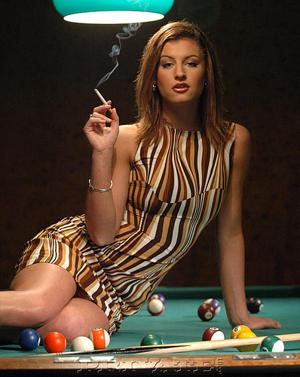person: (5, 20, 283, 348)
